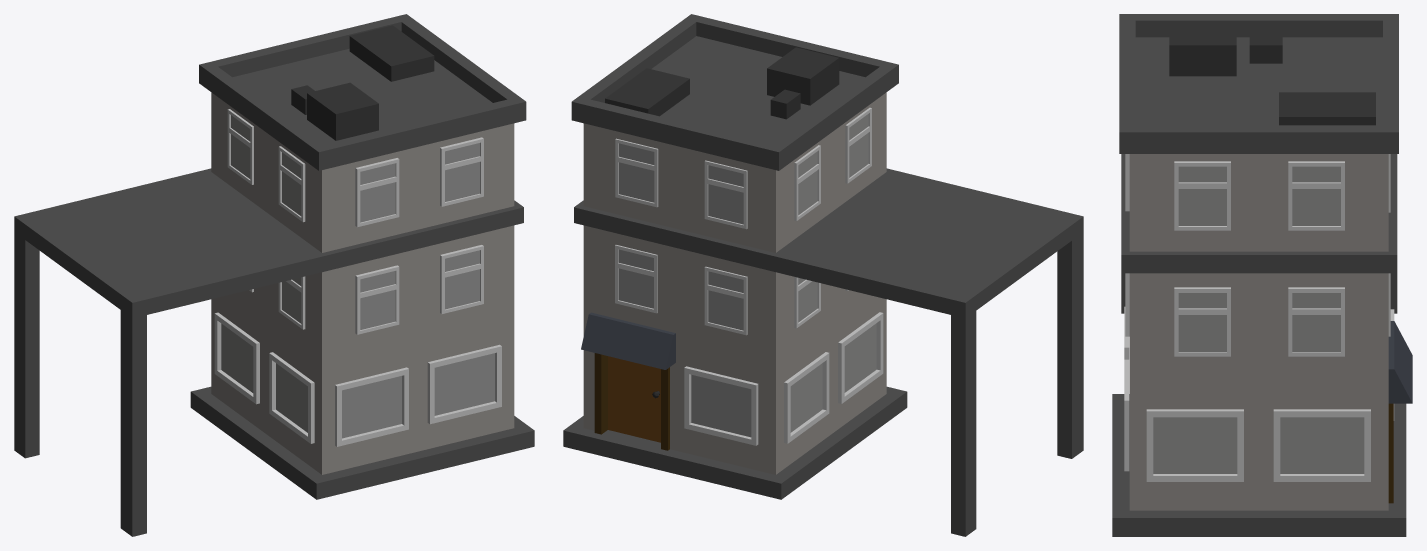
The model's file is Buliding3.fbx.
3 renders of one model, left to right at view 1: azimuth 30°, elevation 25°; view 2: azimuth 150°, elevation 25°; view 3: azimuth 270°, elevation 25°, orthographic. The views are drawn at different scales.
Parts seen in each view (by area): view 1: Buliding; view 2: Buliding; view 3: Buliding.
Boxes of the visible parts, x1,y1,x2,y2 form: Buliding: (14, 14, 534, 536); Buliding: (563, 14, 1083, 536); Buliding: (1112, 14, 1412, 536).
Bounding box in the file's own units: 5496 × 3075 × 4708.
